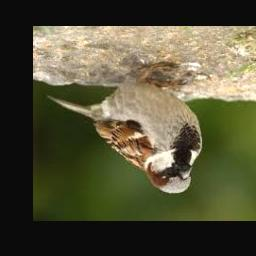Sparrow: (47, 62, 202, 194)
